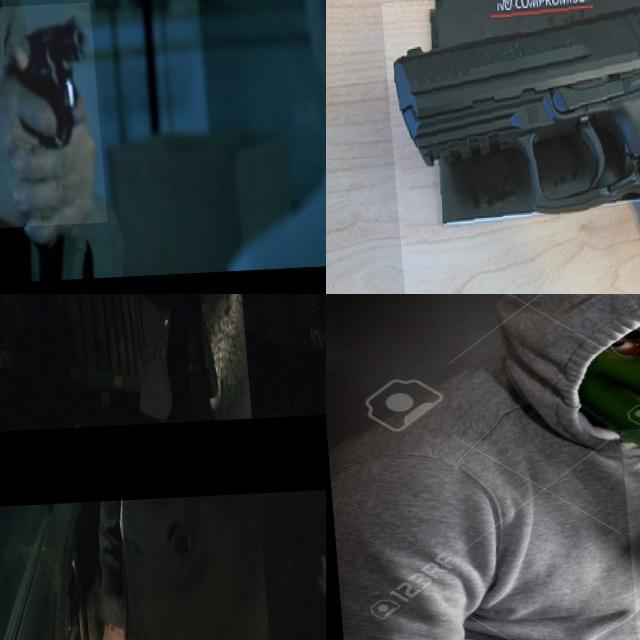gun-knife-thesis - v11 Yolov5 augmented: (377, 0, 640, 294), (0, 6, 97, 230), (103, 294, 131, 325)
